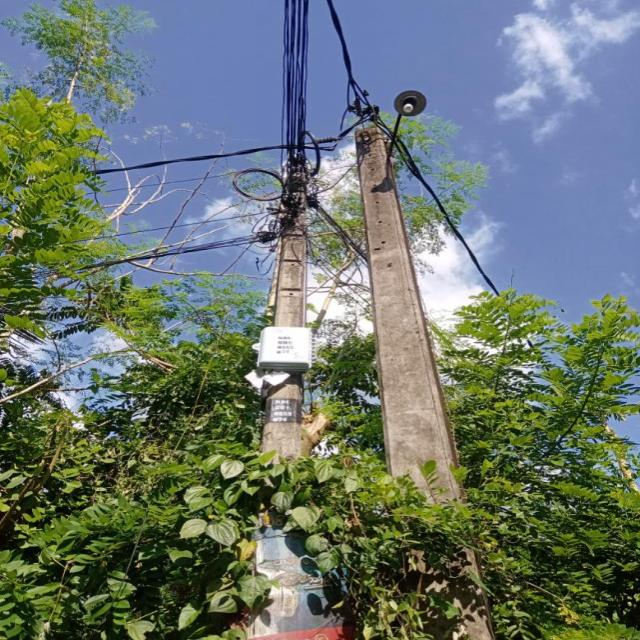light_pole: (352, 111, 458, 496), (254, 150, 321, 468)
